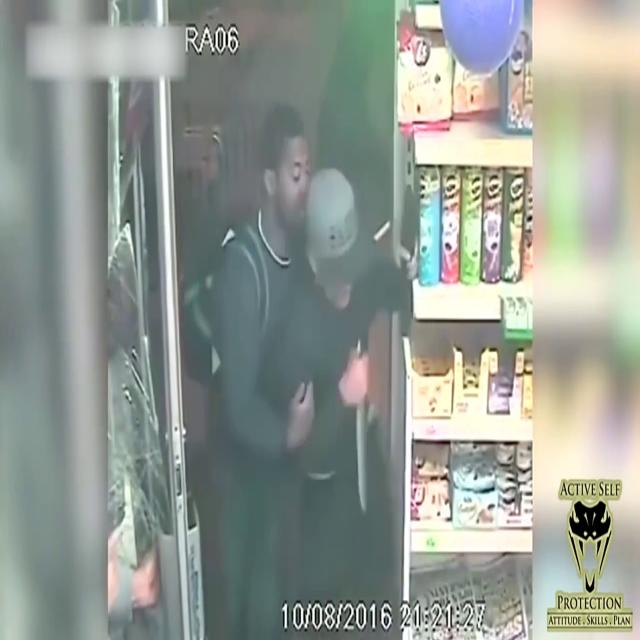Knife_Handle: (344, 339, 370, 512)
